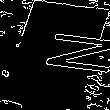N_W: (8, 30, 102, 80)
